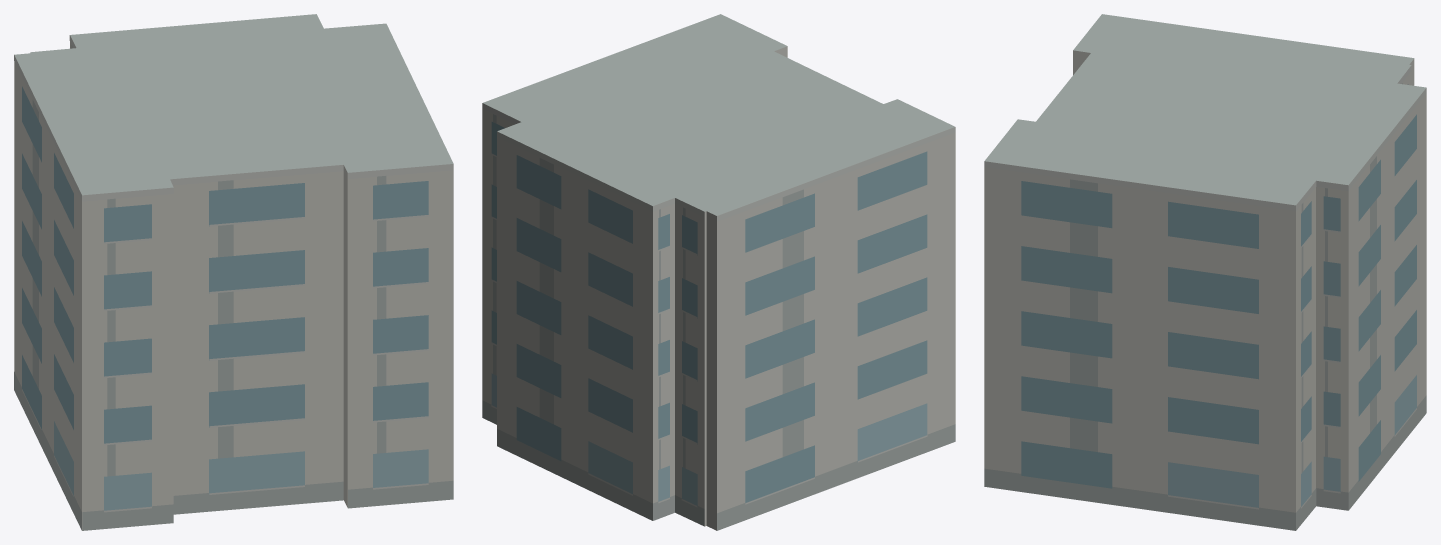
The model's file is survey-upis-33016463.glb.
The picture shows the model from 3 angles, left to right: view 1: azimuth 30°, elevation 25°; view 2: azimuth 150°, elevation 25°; view 3: azimuth 270°, elevation 25°; orthographic projection. The views are drawn at different scales.
Visible parts, largest first — view 1: survey-upis-33016463.tmp; view 2: survey-upis-33016463.tmp; view 3: survey-upis-33016463.tmp.
Part boxes in pixels (<box>): survey-upis-33016463.tmp: <box>14,14,453,530</box>; survey-upis-33016463.tmp: <box>482,14,955,530</box>; survey-upis-33016463.tmp: <box>984,14,1426,530</box>.
Bounding box in the file's own units: 16.65 × 13.2 × 16.27.
